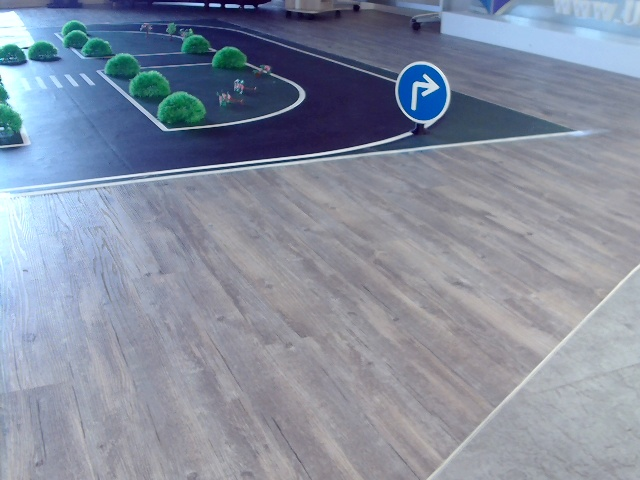turn_right: (408, 70, 438, 110)
